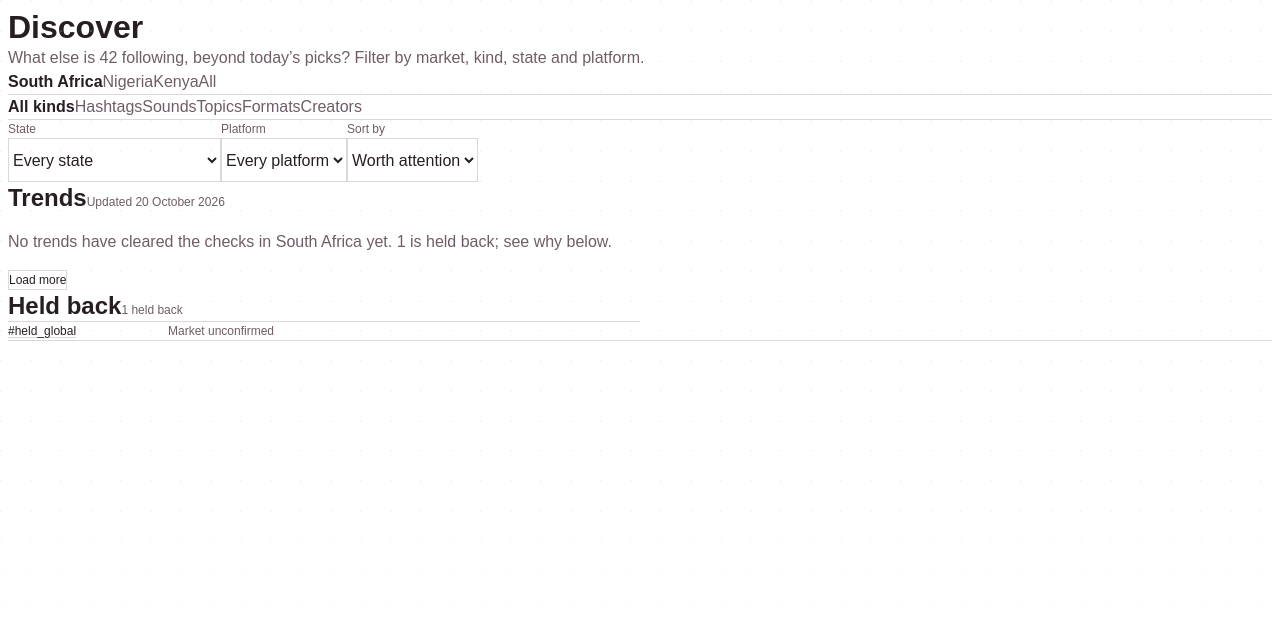
Test: an expanded held card shows its Global search context
What coordinates should you click on to do the following:
click the button "#held_global"
I would click on:
 (88, 331)
Its box is [8, 323, 168, 340].
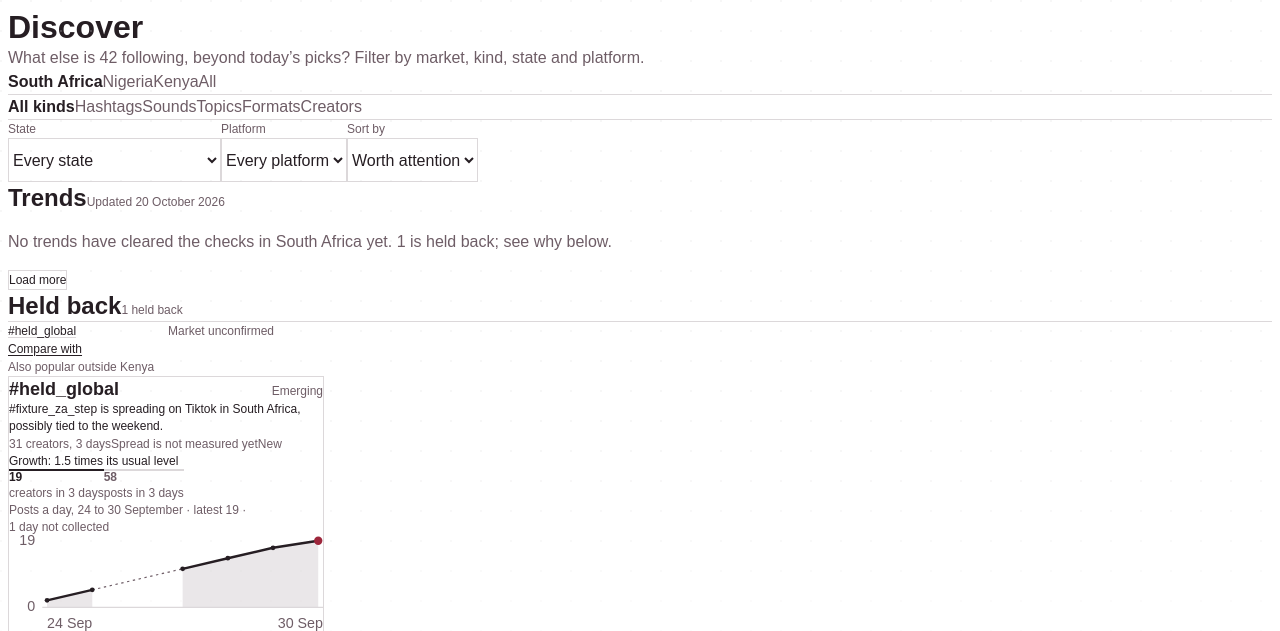
Expected: the text with class "d42-global-scope" reads "Also popular outside Kenya", [8, 360, 154, 374]
